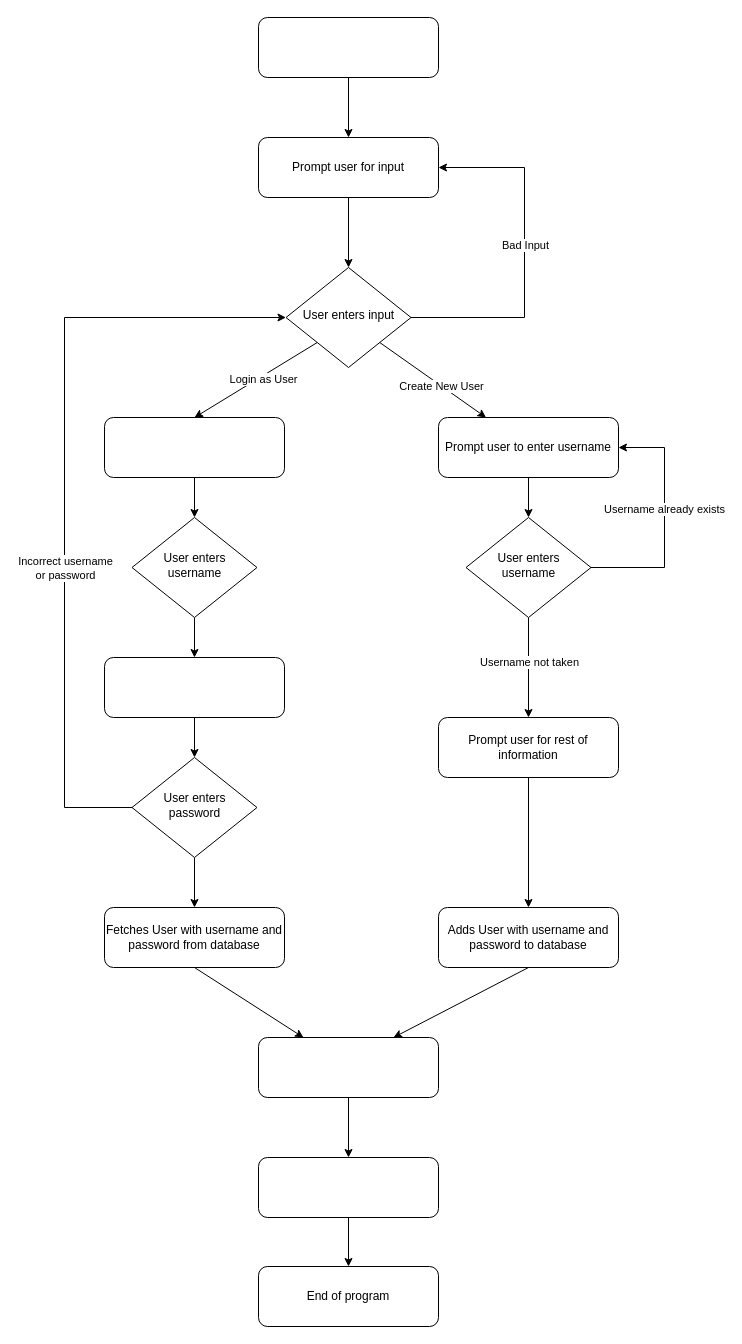
The diagram is 742 pixels wide and 1344 high, and some of its shapes have lost their labels. The centre of each missing label's shape, as x and y in pixels:
Prompt user for password: pixel 194 687
Prompt user for username: pixel 194 447
Start of program: pixel 348 47
User object is created with relevant information: pixel 348 1067
User object is returned: pixel 348 1187
